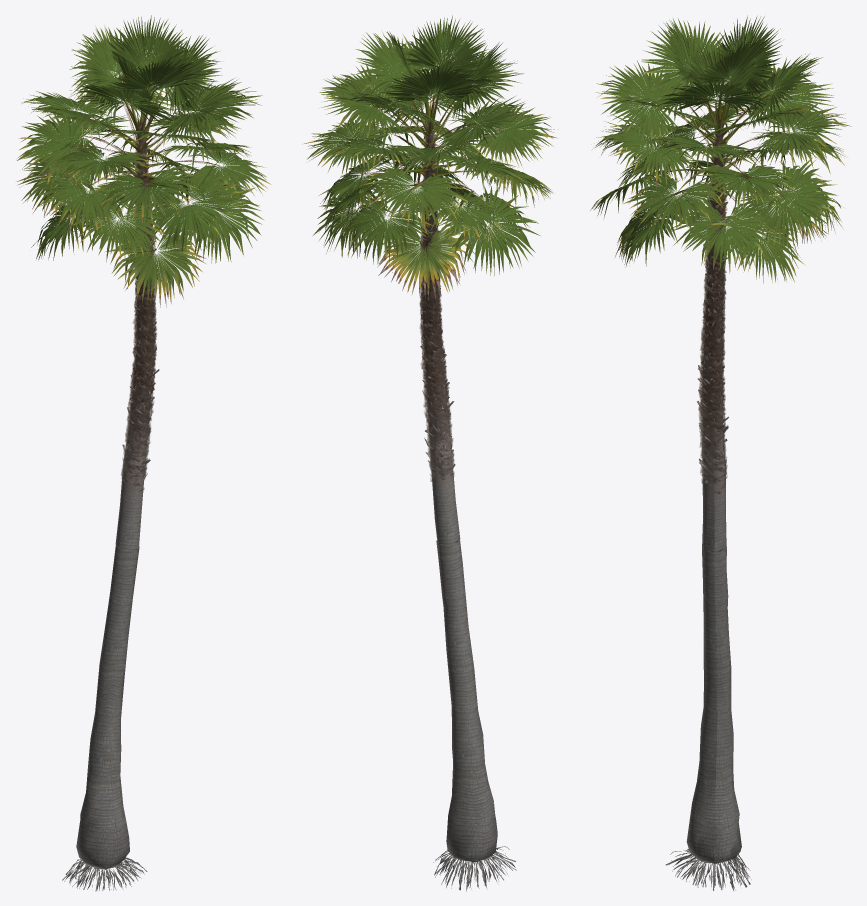
File: palm_fan_b.glb
3 views of the same model, side by side, from view 1: azimuth 30°, elevation 25°; view 2: azimuth 150°, elevation 25°; view 3: azimuth 270°, elevation 25° (orthographic). The views are drawn at different scales.
Parts seen in each view (by area): view 1: Washingtonia_robusta_HD_V2_Wahs crownshaft_0; view 2: Washingtonia_robusta_HD_V2_Wahs crownshaft_0; view 3: Washingtonia_robusta_HD_V2_Wahs crownshaft_0.
Part boxes in pixels (x1,y1,x2,y2): Washingtonia_robusta_HD_V2_Wahs crownshaft_0: [16, 15, 271, 891]; Washingtonia_robusta_HD_V2_Wahs crownshaft_0: [302, 15, 558, 891]; Washingtonia_robusta_HD_V2_Wahs crownshaft_0: [590, 15, 851, 890].
Size of the model in its own units: 3.82 by 13.98 by 3.81.
Materials: 23 (23 with a texture image).
